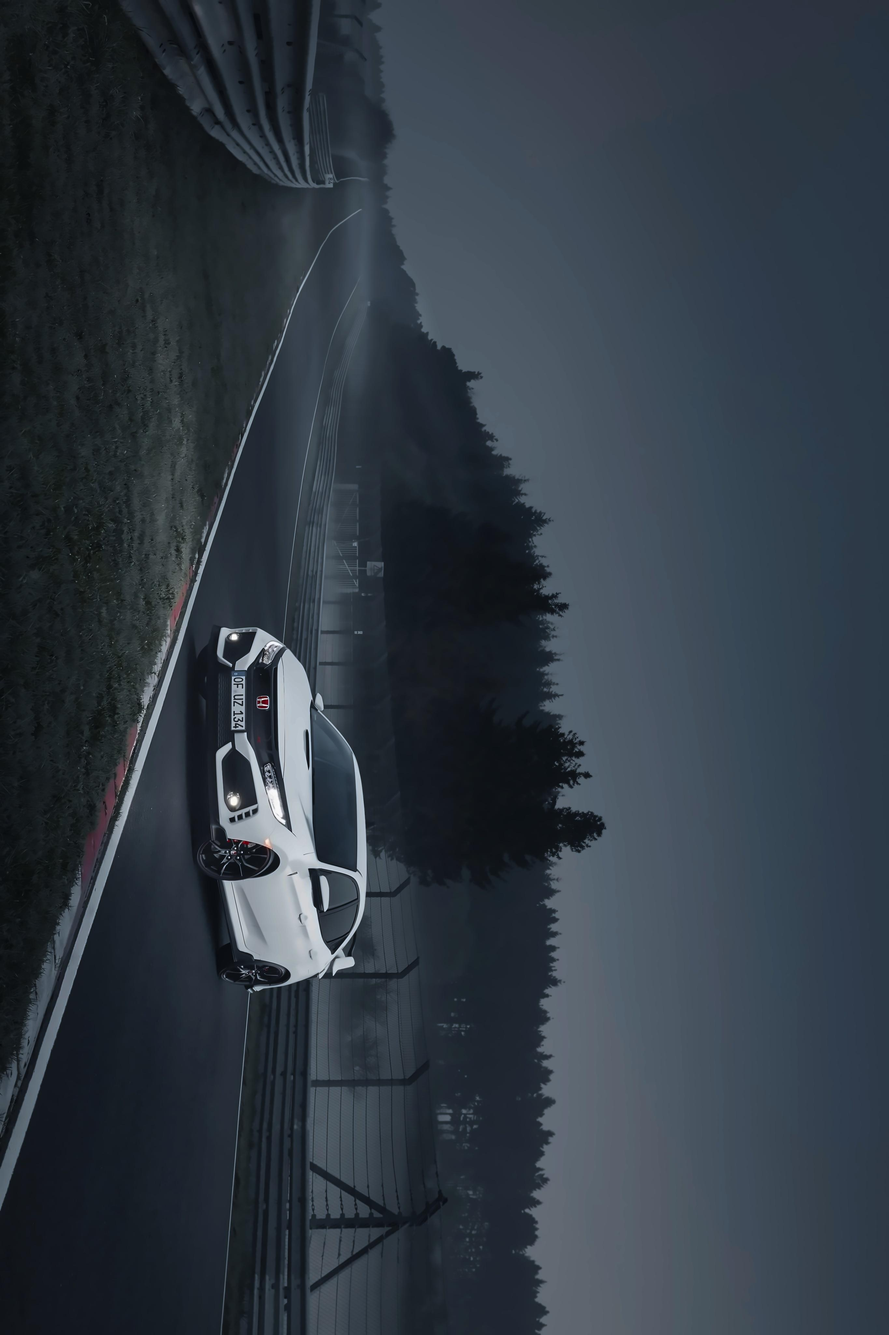Car hood: (271, 645, 320, 857)
Fender - -F-L-: (228, 819, 324, 885)
Fender - -R-L-: (251, 957, 320, 982)
Front bumper: (201, 620, 277, 845)
Headlight - -L-: (255, 758, 294, 834)
Headlight - -R-: (255, 636, 290, 674)
Passenger-s door - -F-L-: (229, 872, 364, 930)
Passenger-s door - -R-L-: (237, 907, 364, 964)
Rear bumper: (243, 980, 295, 1002)
Side bumper - -L-: (213, 871, 251, 966)
Side mirror - -L-: (303, 866, 333, 916)
Side mirror - -R-: (309, 688, 330, 717)
